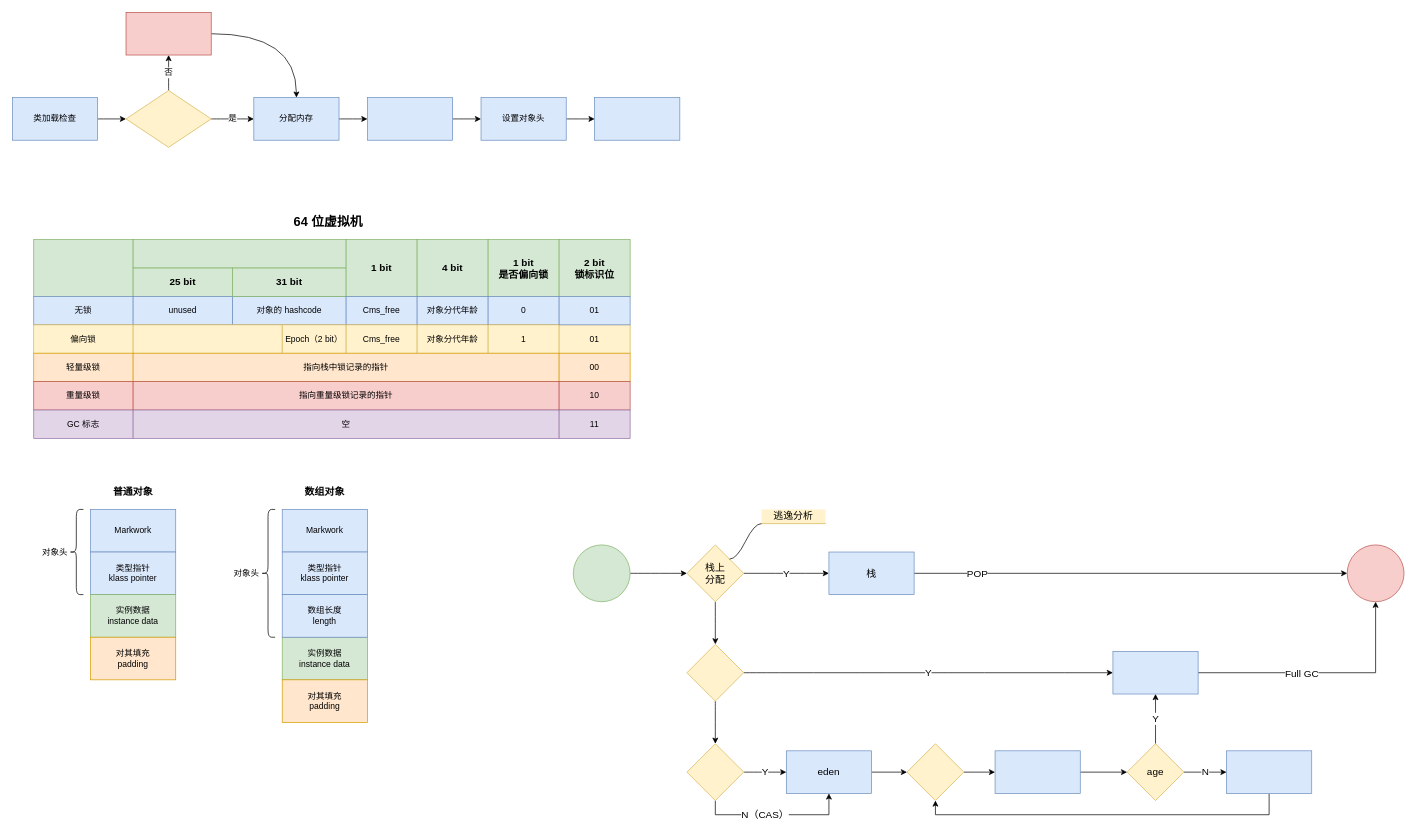
This 1416x833 diagram has some shape labels left out. The shapes that lost their labels are listed below. From the top down, each one's box as (x1, y1, x2, y2) in pixels, then its label:
(125, 12, 211, 55): 加载类
(125, 90, 211, 147): 是否已加载
(367, 97, 453, 140): 初始化零值
(594, 97, 680, 140): 执行 init 方法
(33, 239, 133, 296): 锁状态
(132, 239, 346, 268): 56 bit
(132, 324, 282, 353): thread-id：偏向锁线程 ID（54 bit）
(573, 544, 630, 602): new Object()
(1347, 544, 1404, 602): end
(686, 644, 744, 701): 大对象
(1112, 651, 1198, 694): 老年代
(686, 743, 744, 801): TLAB
(906, 743, 964, 801): Minor GC
(994, 750, 1080, 793): S1
(1226, 750, 1312, 793): S2
